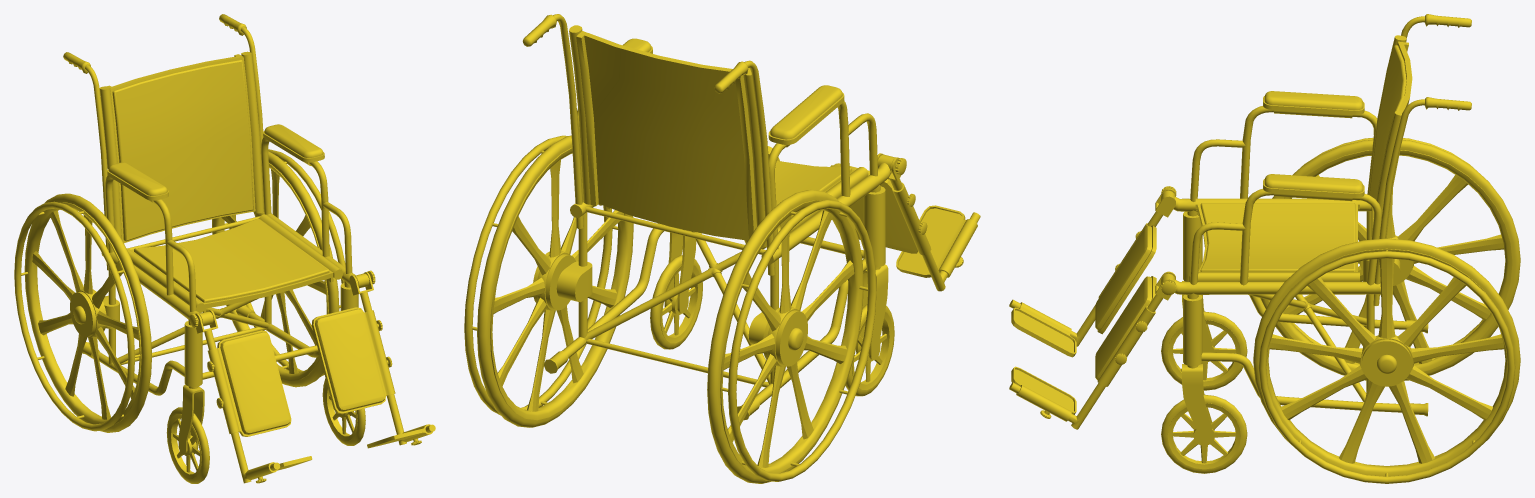
Rendered from Wheelchair.fbx.
The picture shows the model from 3 angles, left to right: view 1: azimuth 30°, elevation 25°; view 2: azimuth 150°, elevation 25°; view 3: azimuth 270°, elevation 25°; orthographic projection. The views are drawn at different scales.
Visible parts, largest first — view 1: Wheelchair_1, Wheelchair_1_1_1, Wheelchair_1_2_1, Wheelchair_1_2_2, Wheelchair_1_1_2, Whllechair_1_3_2_1, Whllechair_1_3_2_2, Whllechair_1_3_1_1; view 2: Wheelchair_1, Wheelchair_1_1_1, Wheelchair_1_1_2, Wheelchair_1_2_1, Whllechair_1_3_2_2, Whllechair_1_3_2_1, Whllechair_1_3_1_1, Whllechair_1_3_1_2; view 3: Wheelchair_1, Wheelchair_1_1_2, Wheelchair_1_1_1, Wheelchair_1_2_2, Wheelchair_1_2_1, Whllechair_1_3_2_2, Whllechair_1_3_2_1, Whllechair_1_3_1_2.
Part boxes in pixels (box(x1,y1,x2,y2)): Wheelchair_1: box(63, 14, 369, 395); Wheelchair_1_1_1: box(14, 193, 151, 432); Wheelchair_1_2_1: box(189, 310, 312, 483); Wheelchair_1_2_2: box(311, 270, 435, 448); Wheelchair_1_1_2: box(212, 149, 345, 387); Whllechair_1_3_2_1: box(166, 407, 209, 483); Whllechair_1_3_2_2: box(322, 378, 365, 445); Whllechair_1_3_1_1: box(178, 384, 204, 454); Wheelchair_1: box(522, 14, 895, 420); Wheelchair_1_1_1: box(707, 189, 876, 483); Wheelchair_1_1_2: box(464, 135, 633, 427); Wheelchair_1_2_1: box(830, 153, 980, 291); Whllechair_1_3_2_2: box(650, 255, 702, 349); Whllechair_1_3_2_1: box(845, 304, 894, 396); Whllechair_1_3_1_1: box(856, 264, 888, 360); Whllechair_1_3_1_2: box(664, 227, 696, 313); Wheelchair_1: box(1161, 14, 1471, 416); Wheelchair_1_1_2: box(1253, 238, 1520, 483); Wheelchair_1_1_1: box(1260, 137, 1520, 380); Wheelchair_1_2_2: box(1009, 271, 1176, 429); Wheelchair_1_2_1: box(1009, 186, 1176, 357); Whllechair_1_3_2_2: box(1161, 394, 1247, 473); Whllechair_1_3_2_1: box(1161, 311, 1247, 390); Whllechair_1_3_1_2: box(1182, 364, 1212, 445).
Bounding box in the file's own units: 63.92 × 95.33 × 117.
